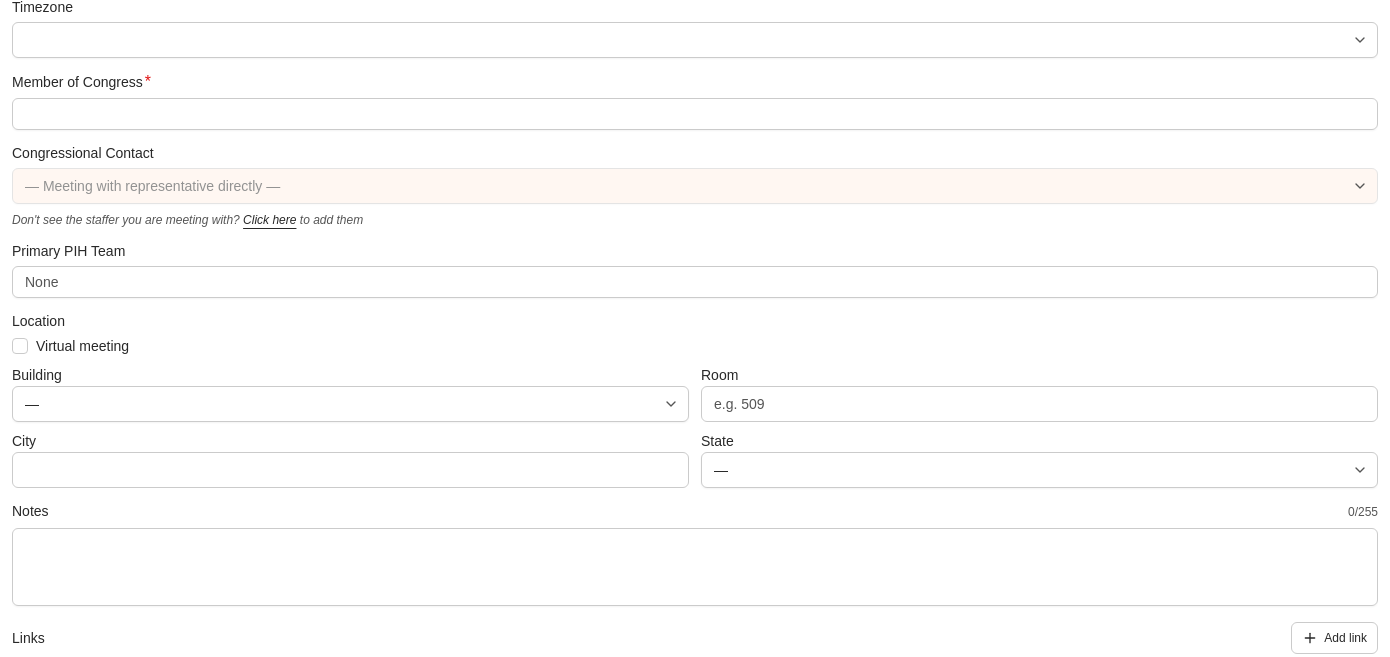
Test: CreateMeetingForm — links › can remove a link row
The width and height of the screenshot is (1390, 657).
What coordinates should you click on to do the following:
click the button "Add link"
I would click on:
 (1335, 638)
Its box is x1=1291 y1=622 x2=1378 y2=654.
(page scrolled)
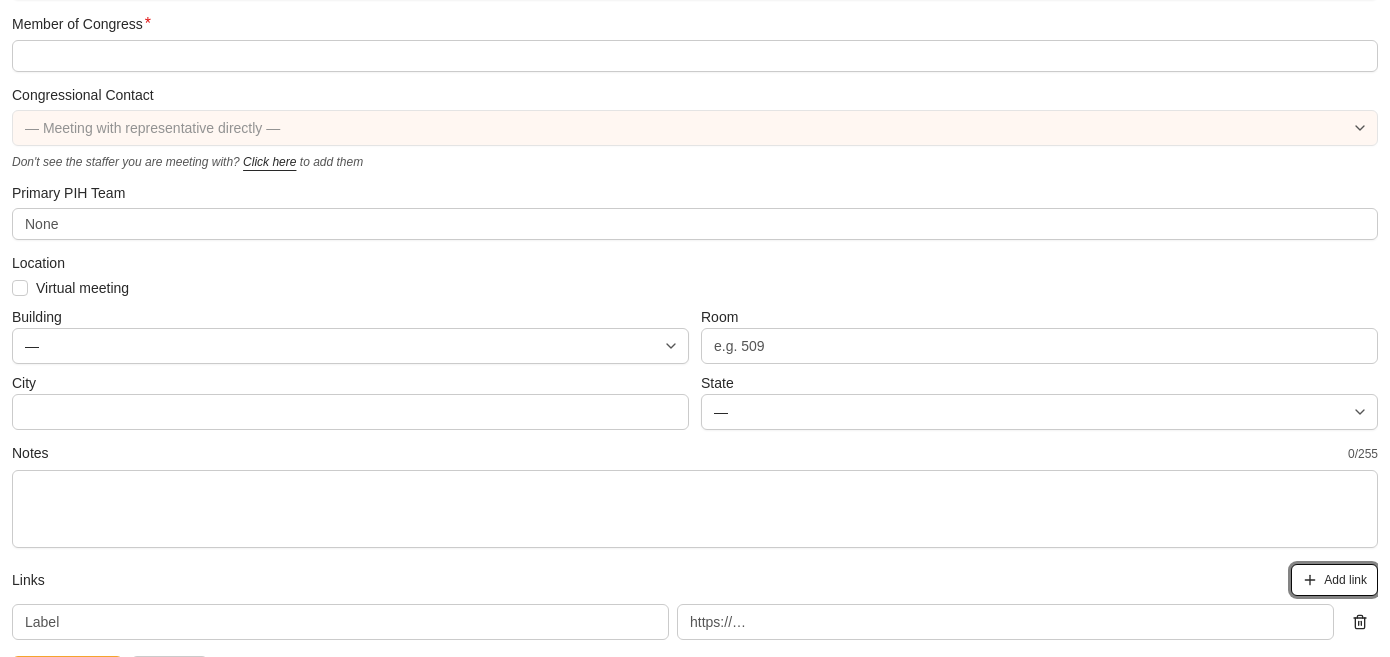
Now the field named "Link 1 label" is shown, box x1=12 y1=604 x2=669 y2=640
What coordinates should you click on to do the following:
click the button named "Remove link 1"
I would click on:
 (1360, 622)
Its box is x1=1342 y1=604 x2=1378 y2=640.
(page scrolled)
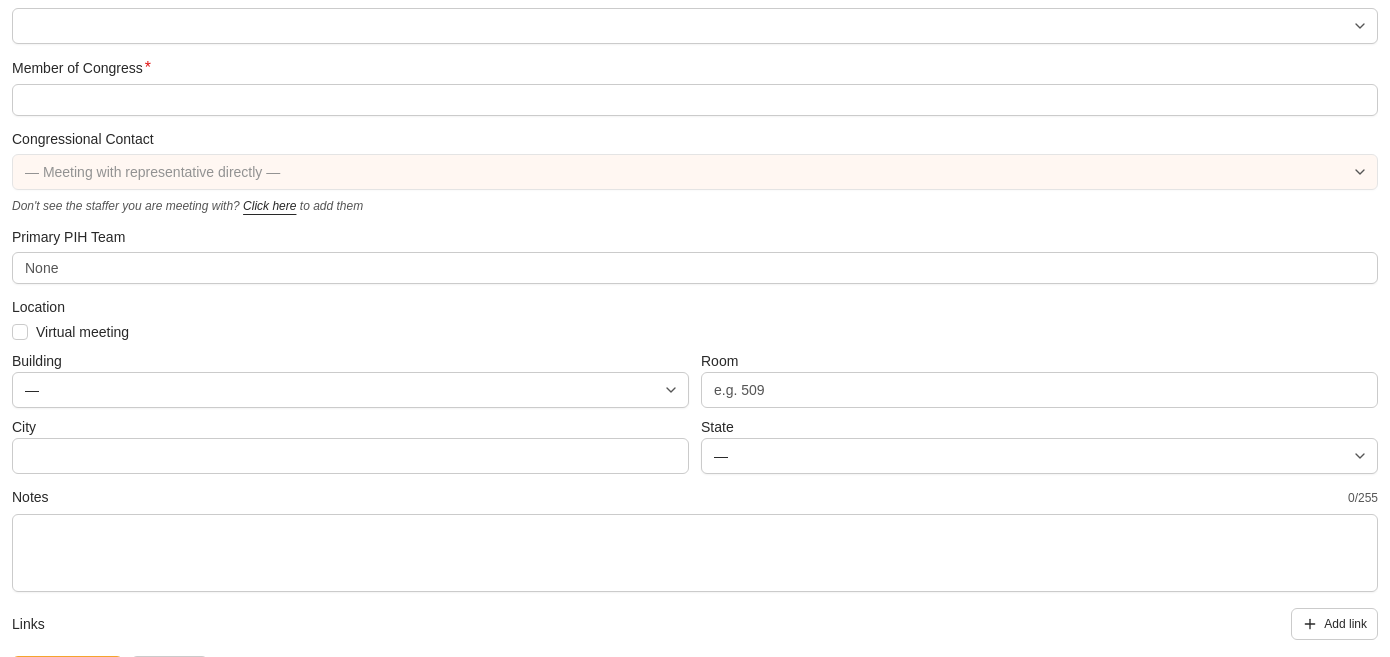
Now the field labelled "Link 1 label" is gone
